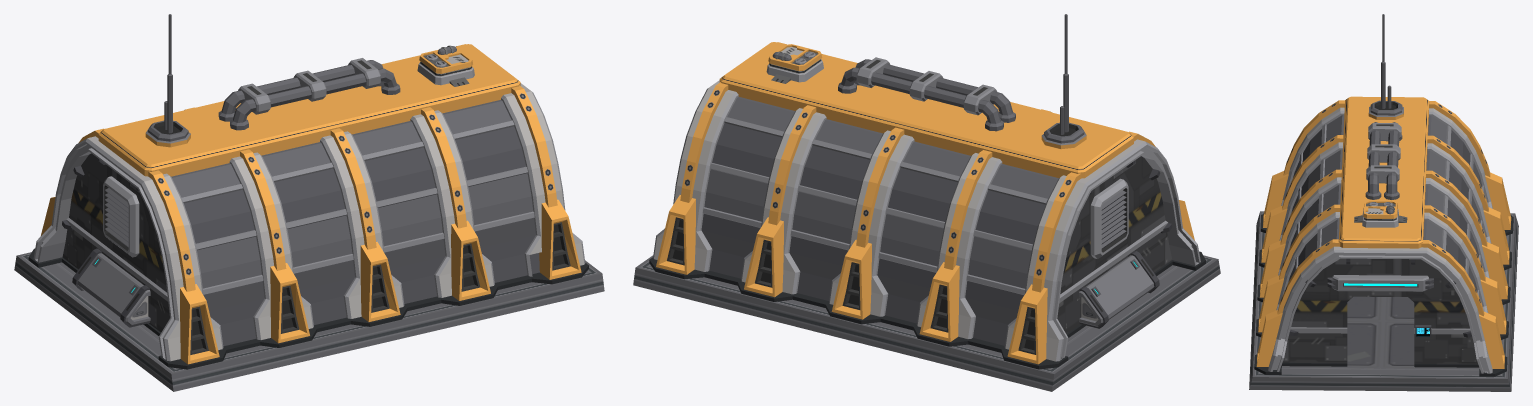
Rendered from Building04.fbx.
3 views of the same model, side by side, from view 1: azimuth 30°, elevation 25°; view 2: azimuth 150°, elevation 25°; view 3: azimuth 270°, elevation 25° (orthographic). The views are drawn at different scales.
Visible parts, largest first — view 1: Wall, Support; view 2: Wall, Support; view 3: Wall, Support.
Boxes of the visible parts, <box> form: Wall: <box>28,14,588,369</box>; Support: <box>14,252,604,391</box>; Wall: <box>649,14,1205,369</box>; Support: <box>633,255,1220,391</box>; Wall: <box>1254,14,1513,376</box>; Support: <box>1249,211,1518,391</box>.
Size of the model in its own units: 1198 by 798 by 814.
1 material, 1 textured.
